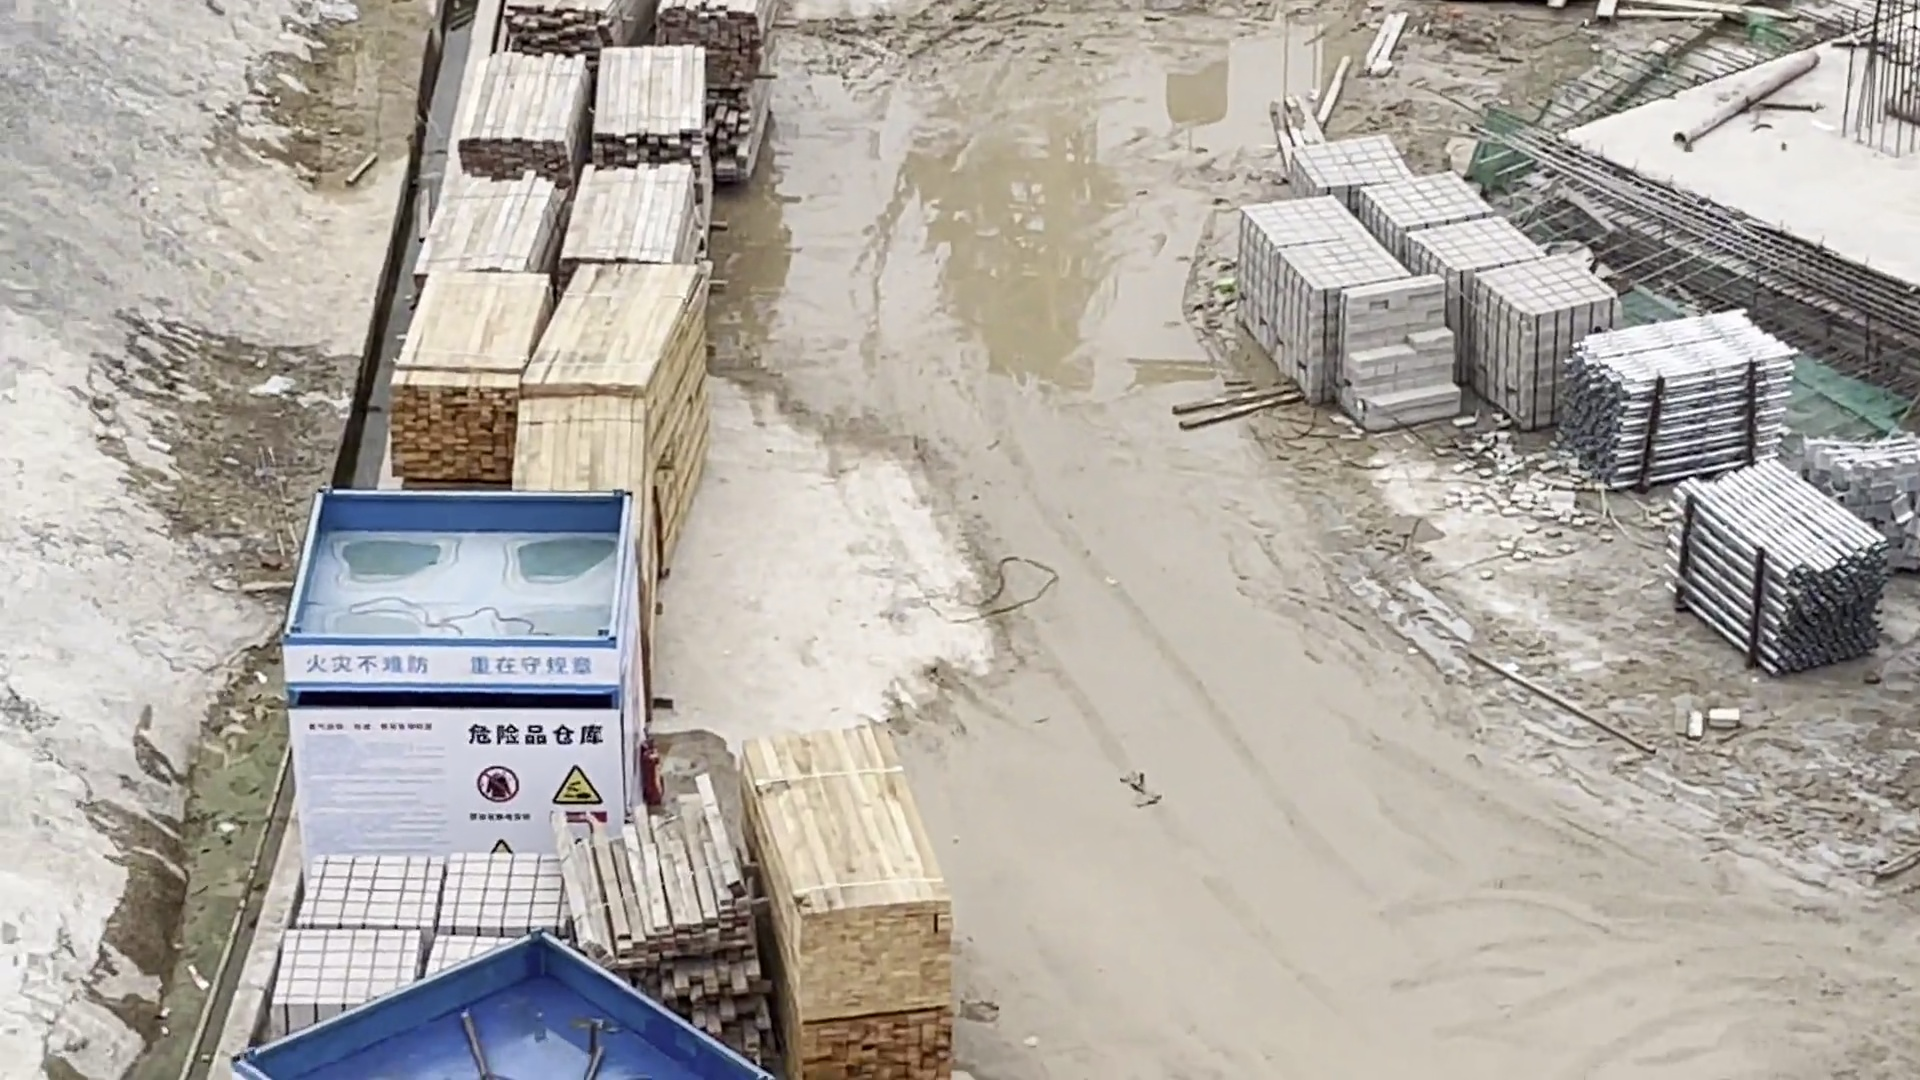brick: (1335, 287, 1478, 442)
slogan: (285, 495, 674, 847)
wood: (738, 713, 961, 1021), (541, 256, 742, 564), (547, 808, 770, 1046), (389, 272, 535, 501), (654, 8, 775, 196), (402, 161, 570, 280), (454, 45, 585, 179), (600, 40, 715, 189), (563, 154, 702, 264), (514, 400, 654, 502), (771, 1009, 956, 1080), (495, 3, 644, 69)
